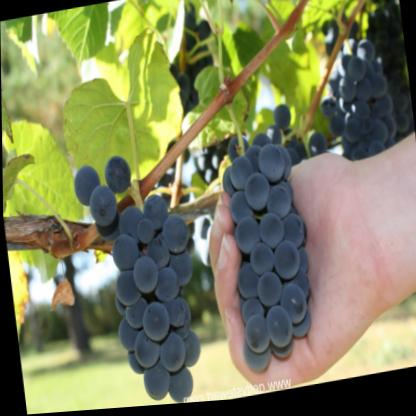--: (52, 112, 228, 413), (203, 89, 328, 388), (304, 0, 416, 179)
